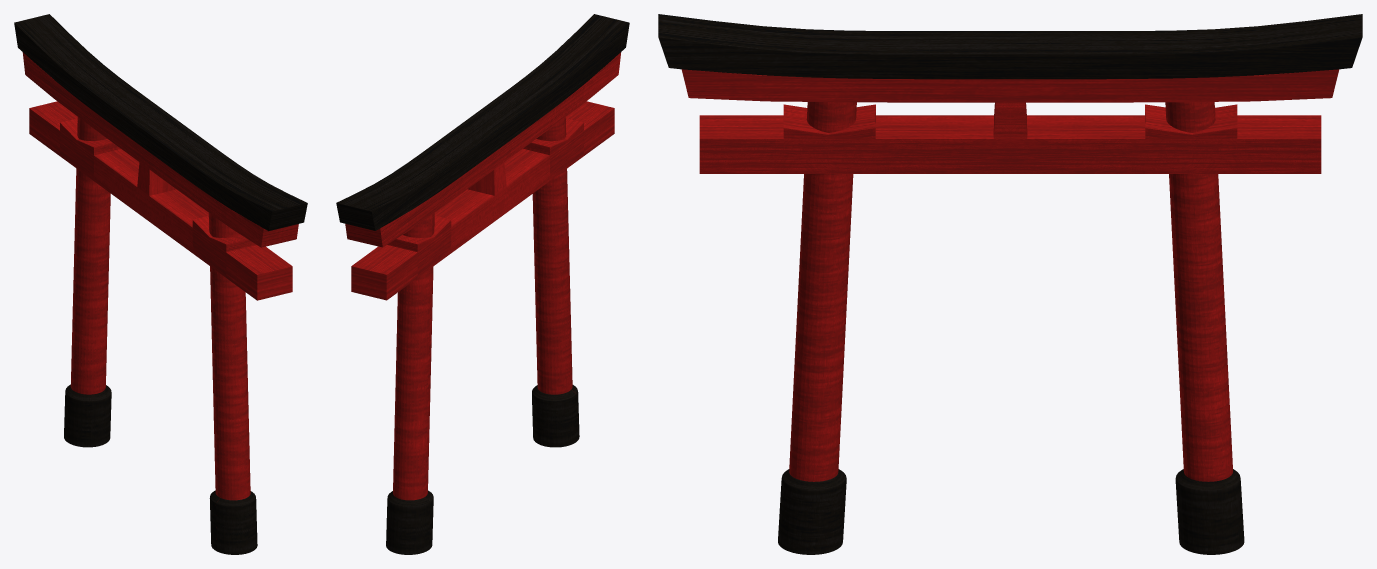
File: ToriiGateModel.fbx
3 views of the same model, side by side, from view 1: azimuth 30°, elevation 25°; view 2: azimuth 150°, elevation 25°; view 3: azimuth 270°, elevation 25° (orthographic). The views are drawn at different scales.
Parts seen in each view (by area): view 1: Top Beam, Bottom Beam, Cylinder.002, Cylinder.003; view 2: Top Beam, Bottom Beam, Cylinder.003, Cylinder.002; view 3: Top Beam, Bottom Beam, Cylinder.002, Cylinder.003.
Part boxes in pixels (x1,y1,x2,y2): Top Beam: (14, 14, 307, 247); Bottom Beam: (29, 101, 292, 300); Cylinder.002: (208, 213, 257, 554); Cylinder.003: (64, 117, 111, 447); Top Beam: (336, 14, 629, 247); Bottom Beam: (351, 101, 614, 300); Cylinder.003: (386, 213, 434, 554); Cylinder.002: (532, 117, 579, 447); Top Beam: (658, 14, 1362, 102); Bottom Beam: (699, 102, 1321, 173); Cylinder.002: (778, 102, 856, 554); Cylinder.003: (1165, 102, 1244, 554).
Bounding box in the file's own units: 42.99 × 391 × 483.
